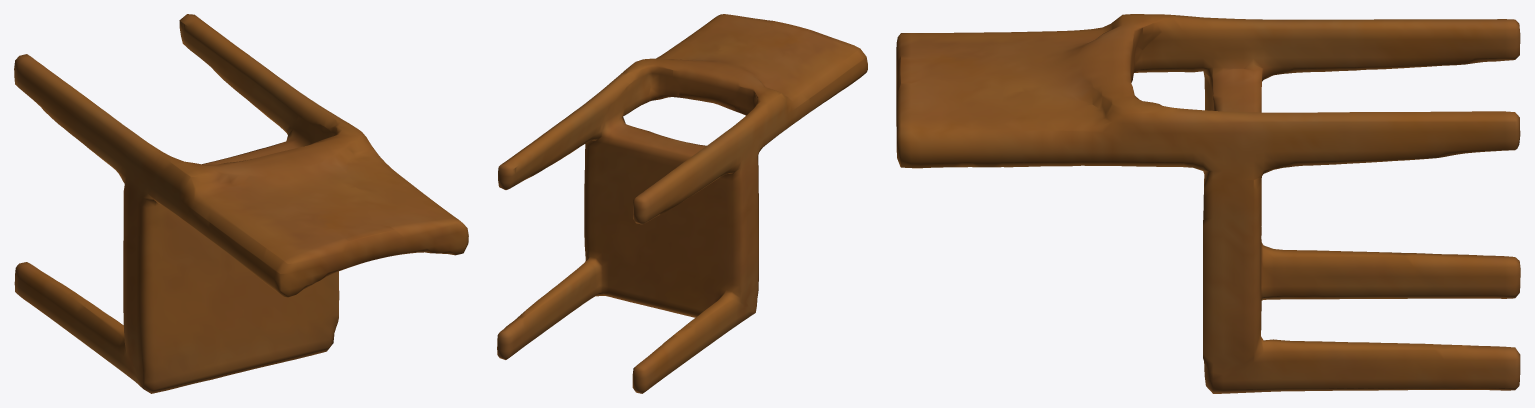
File: a chair.obj
3 renders of one model, left to right at view 1: azimuth 30°, elevation 25°; view 2: azimuth 150°, elevation 25°; view 3: azimuth 270°, elevation 25°, orthographic. The views are drawn at different scales.
Size of the model in its own units: 0.4176 by 0.5082 by 1.
